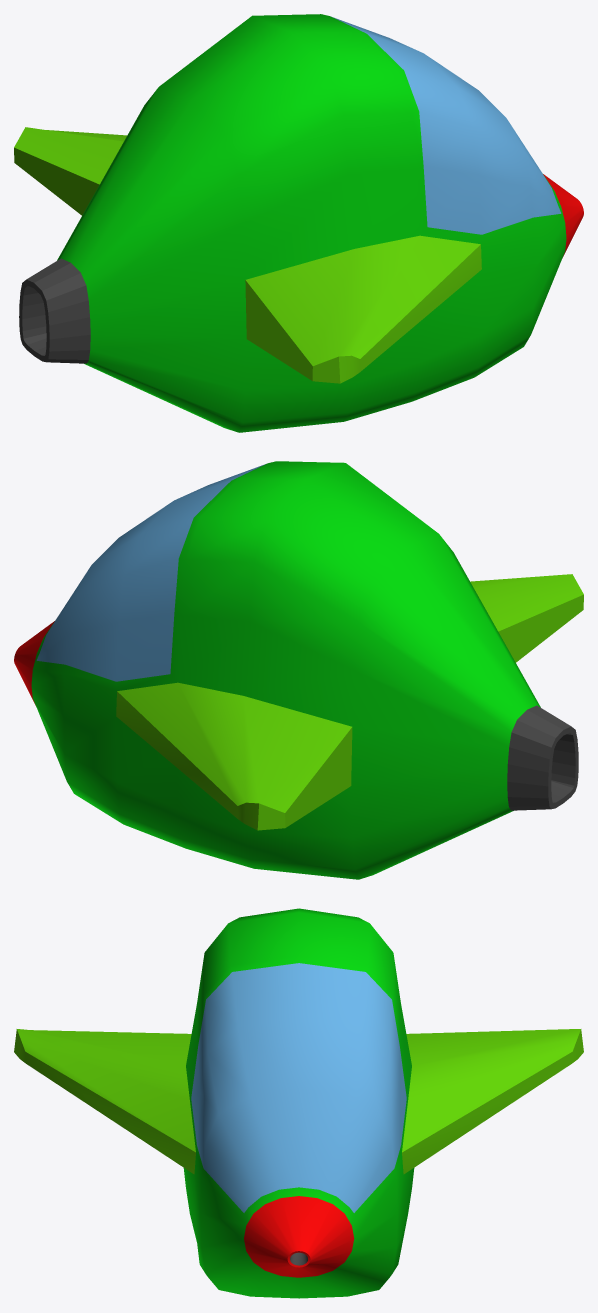
Rendered from enemyairplane.FBX.
3 renders of one model, top to bottom at view 1: azimuth 30°, elevation 25°; view 2: azimuth 150°, elevation 25°; view 3: azimuth 270°, elevation 25°, orthographic. The views are drawn at different scales.
Visible parts, largest first — view 1: Sphere001; view 2: Sphere001; view 3: Sphere001.
Part boxes in pixels (x1,y1,x2,y2): Sphere001: (14,14,583,432); Sphere001: (14,461,583,879); Sphere001: (14,908,583,1298).
Bounding box in the file's own units: 65.18 × 42.06 × 65.76.
